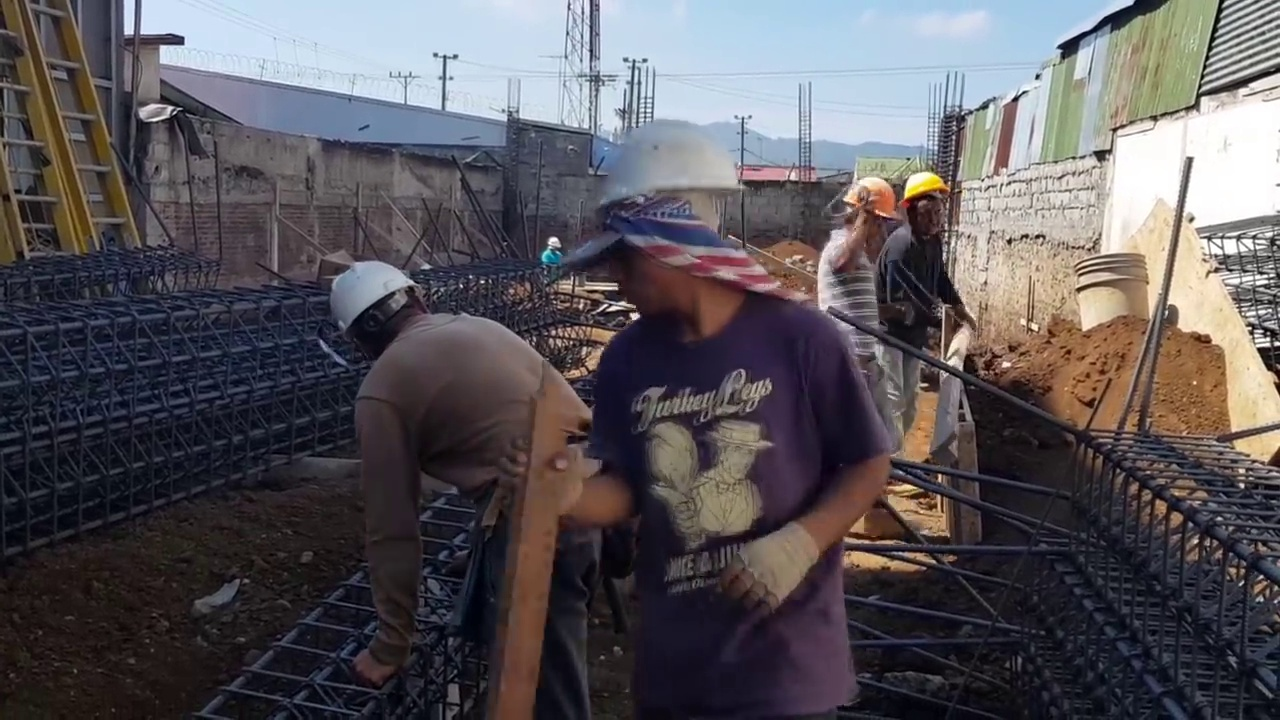helmet: (594, 121, 751, 210), (322, 262, 423, 353), (841, 175, 899, 223), (902, 165, 948, 206), (547, 236, 562, 248)
helmet-on: (583, 117, 751, 353), (321, 252, 438, 368), (840, 175, 900, 249), (902, 163, 949, 238), (546, 236, 563, 256)
person: (557, 108, 878, 713), (318, 253, 619, 718), (816, 167, 904, 543), (886, 160, 977, 477), (540, 235, 562, 280)
